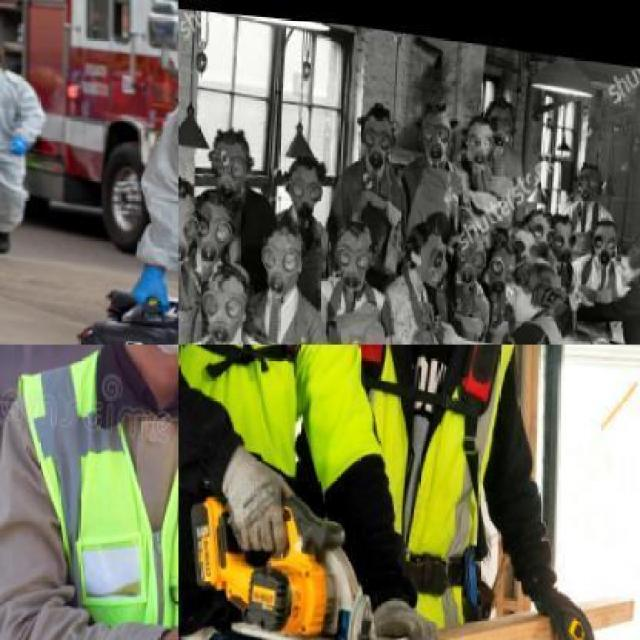vest: (331, 344, 520, 630), (5, 344, 177, 630), (0, 55, 57, 163)
